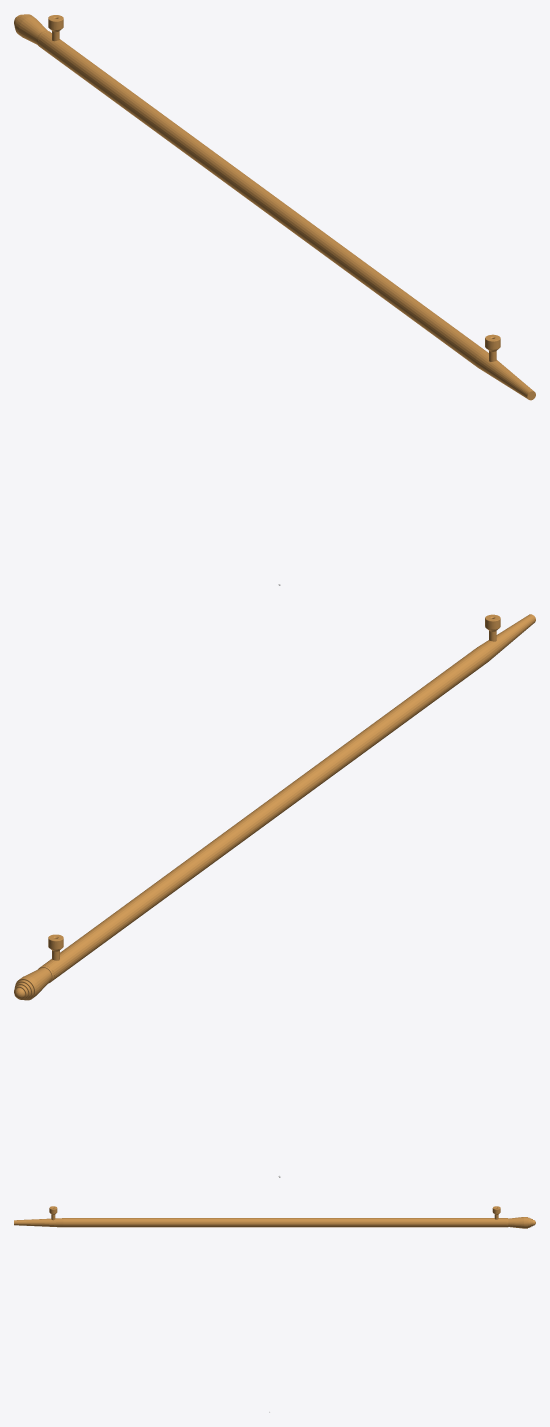
Rendered from mace pvd gold.glb.
3 views of the same model, one above another, from view 1: azimuth 30°, elevation 25°; view 2: azimuth 150°, elevation 25°; view 3: azimuth 270°, elevation 25° (orthographic). The views are drawn at different scales.
Parts seen in each view (by area): view 1: CB_MACE; view 2: CB_MACE; view 3: CB_MACE.
Part boxes in pixels (left/top/right/bottom): CB_MACE: left=14, top=14, right=535, bottom=400; CB_MACE: left=14, top=614, right=535, bottom=1000; CB_MACE: left=14, top=1206, right=535, bottom=1228.
Size of the model in its own units: 0.00793 by 0.1516 by 0.35.
